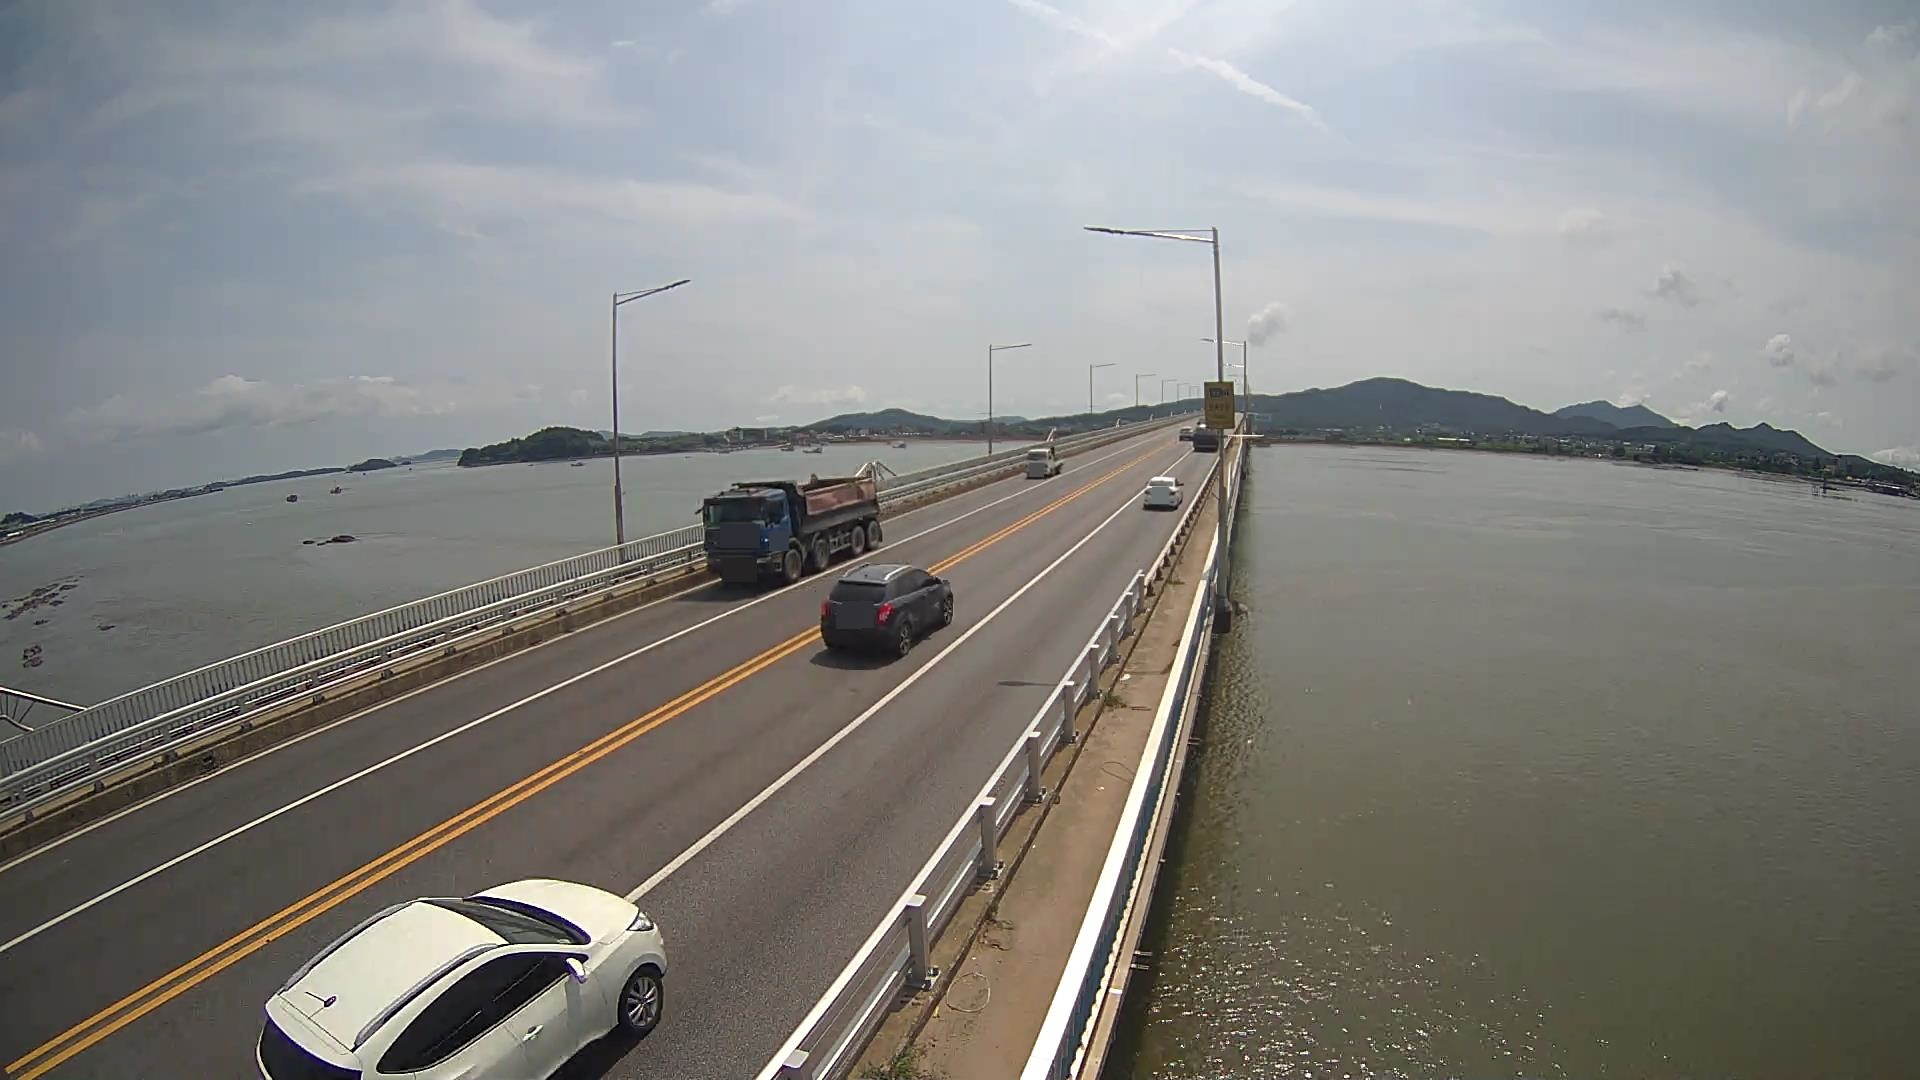정상차량: (695, 470, 883, 584)
